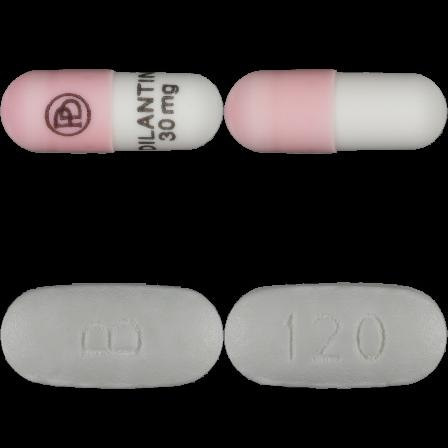0071-3740: (0, 0, 224, 224)
